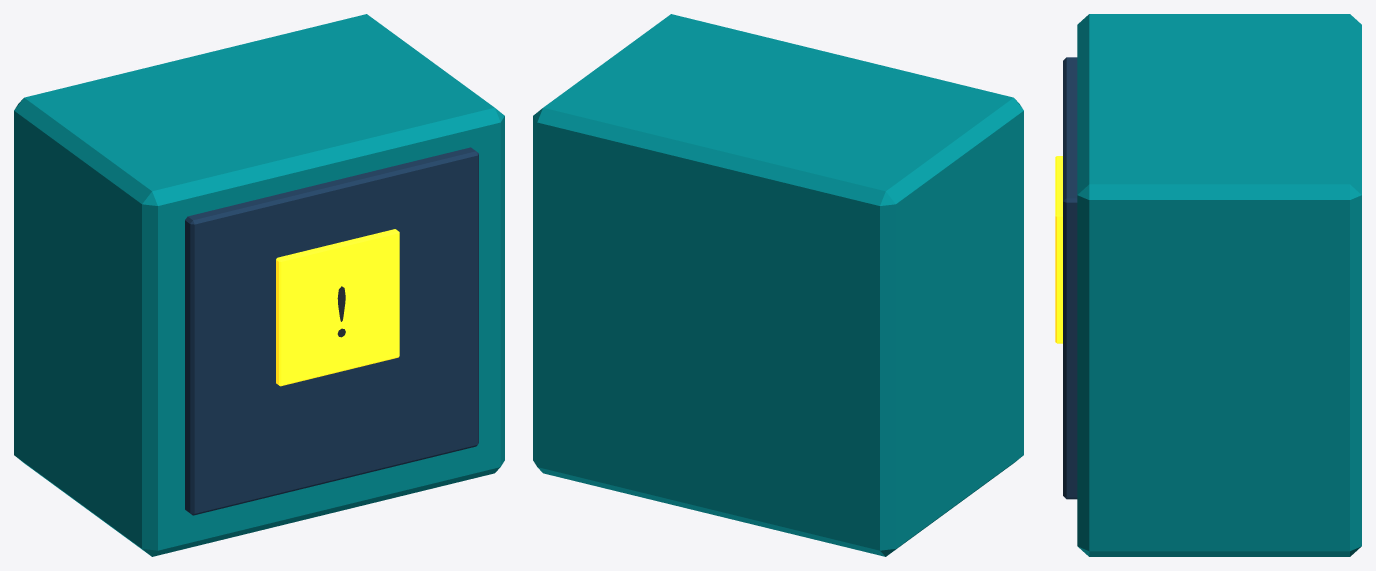
File: utility_box_a.glb
The picture shows the model from 3 angles, left to right: view 1: azimuth 30°, elevation 25°; view 2: azimuth 150°, elevation 25°; view 3: azimuth 270°, elevation 25°; orthographic projection.
Visible parts, largest first — view 1: UtilityBox_Body, UtilityBox_Door, UtilityBox_Warning; view 2: UtilityBox_Body; view 3: UtilityBox_Body, UtilityBox_Door, UtilityBox_Warning.
Boxes of the visible parts, bbox=[...] form: UtilityBox_Body: bbox=[14, 14, 504, 556]; UtilityBox_Door: bbox=[185, 147, 478, 515]; UtilityBox_Warning: bbox=[276, 229, 399, 386]; UtilityBox_Body: bbox=[533, 14, 1023, 556]; UtilityBox_Body: bbox=[1077, 14, 1361, 556]; UtilityBox_Door: bbox=[1063, 57, 1077, 499]; UtilityBox_Warning: bbox=[1055, 156, 1062, 343].
Size of the model in its own units: 2.7 by 2.6 by 1.96.
